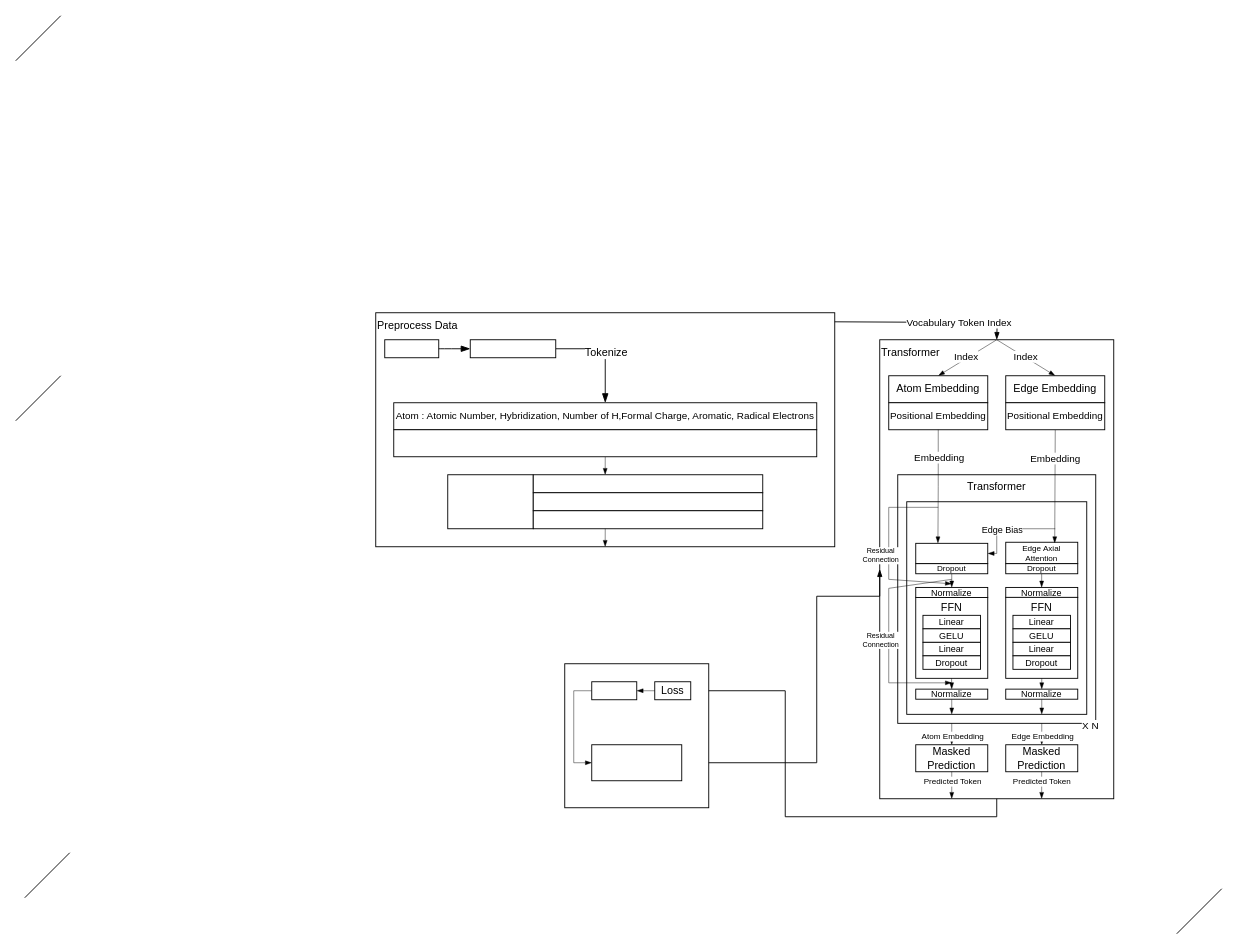
The diagram is 1238 pixels wide and 950 high, and some of its shapes have lost their labels. Here are the shapes that lost their labels. From the top down, the box of each, then its label:
(384, 339, 439, 358): SMILES
(469, 339, 556, 358): RDKit Molecule
(393, 429, 817, 457): Edge (All atom-atom pair) : Bond Type, # of possible Hydrogen bond
(447, 474, 533, 529): Token Masking
(532, 474, 763, 493): [Mask] Token
(532, 492, 763, 511): Random Token
(532, 510, 763, 529): Original Token
(915, 542, 988, 564): Edge-Biased Atom Attention
(906, 501, 1087, 714): Transformer Block
(591, 681, 637, 700): NLLLoss
(591, 744, 682, 781): Backpropagate by Adam
